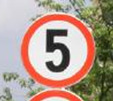speed_limit_5: (21, 12, 95, 88)
